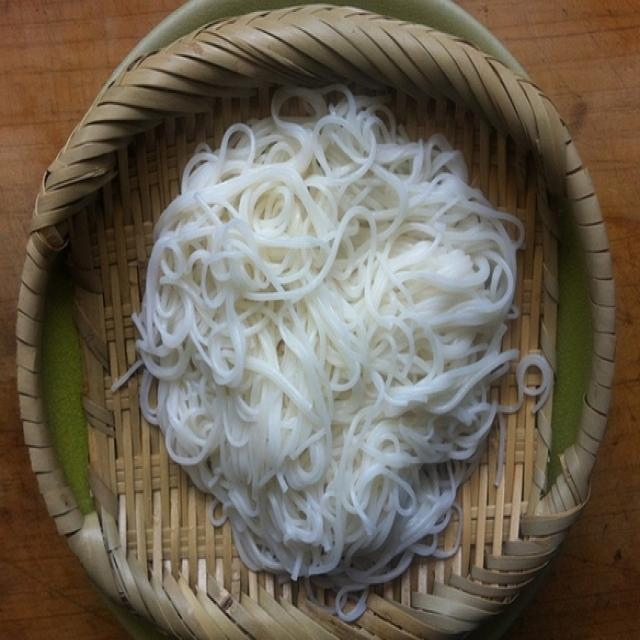面条主食: (86, 63, 564, 607)
